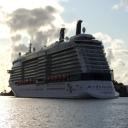cruises: (8, 20, 122, 102)
